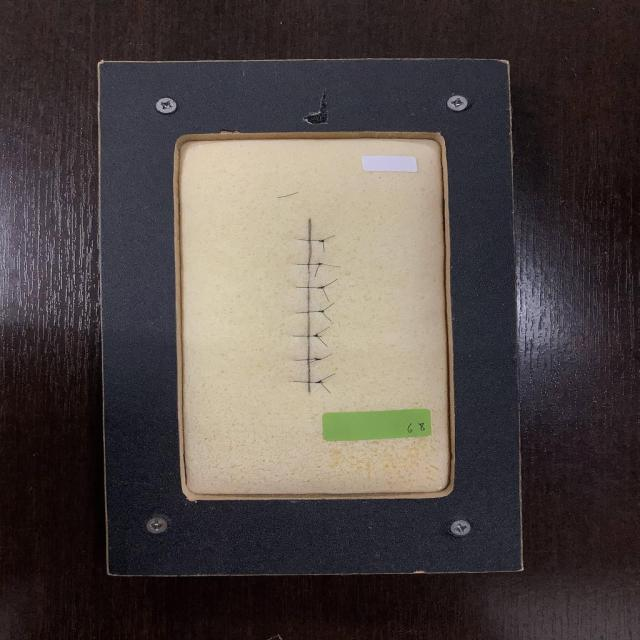knot: (313, 378, 324, 385), (315, 284, 327, 290), (312, 356, 324, 362), (311, 332, 321, 339), (316, 238, 327, 244), (314, 261, 325, 267), (316, 308, 326, 314)
leftover: (318, 380, 332, 394), (319, 372, 336, 382), (316, 335, 329, 348), (322, 278, 338, 288), (322, 301, 335, 312), (315, 326, 330, 335), (321, 310, 332, 322), (321, 286, 329, 301), (313, 263, 321, 277), (321, 234, 336, 241), (320, 263, 341, 268), (319, 353, 332, 360), (308, 359, 319, 364), (322, 240, 325, 253)
stitch: (295, 310, 324, 314), (292, 380, 324, 383), (295, 286, 324, 289), (298, 239, 324, 242), (294, 358, 318, 361), (292, 335, 323, 337), (296, 263, 321, 265)
wound: (306, 219, 312, 393)
